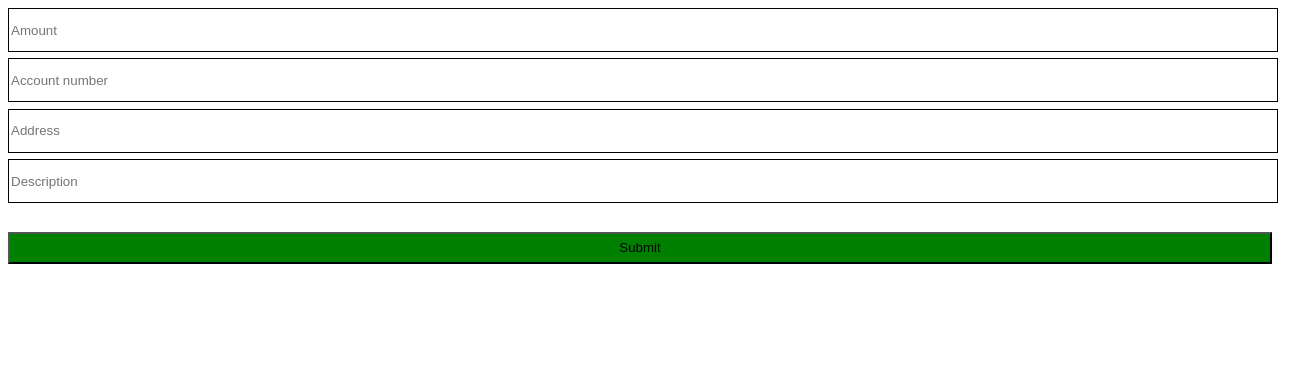
TransactionForm › if account number field throws an error when is empty
This screenshot has width=1292, height=366.
Click the button: (640, 248) x1=8 y1=232 x2=1272 y2=264
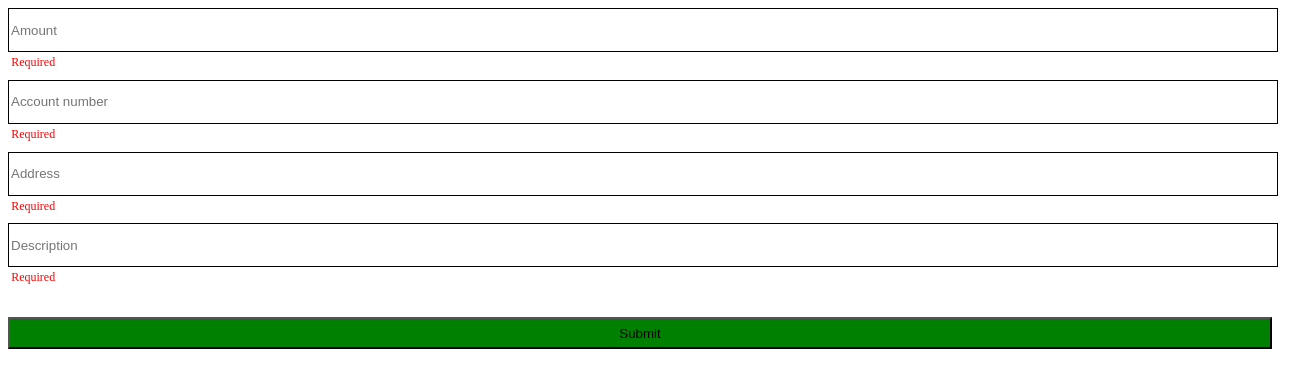
Expected: the text with test id "account_error" reads "Required", x1=11 y1=127 x2=55 y2=141
